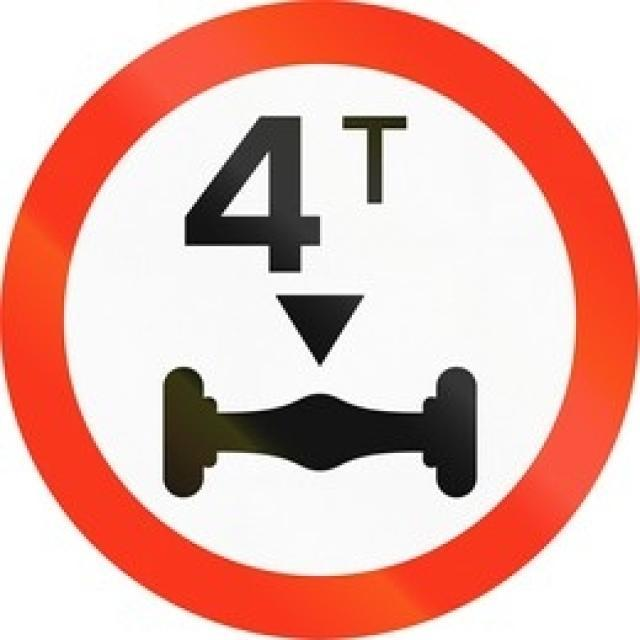axle load limit: (15, 13, 624, 625)
